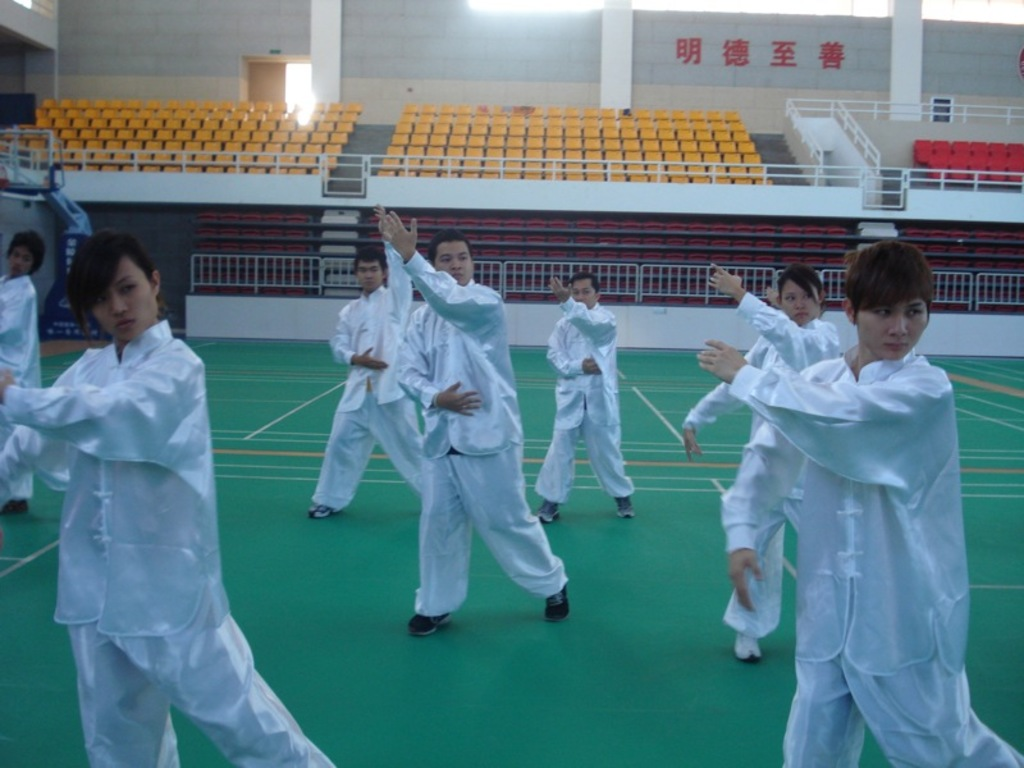Person: (722, 241, 963, 768), (307, 201, 425, 511), (0, 234, 48, 511)
